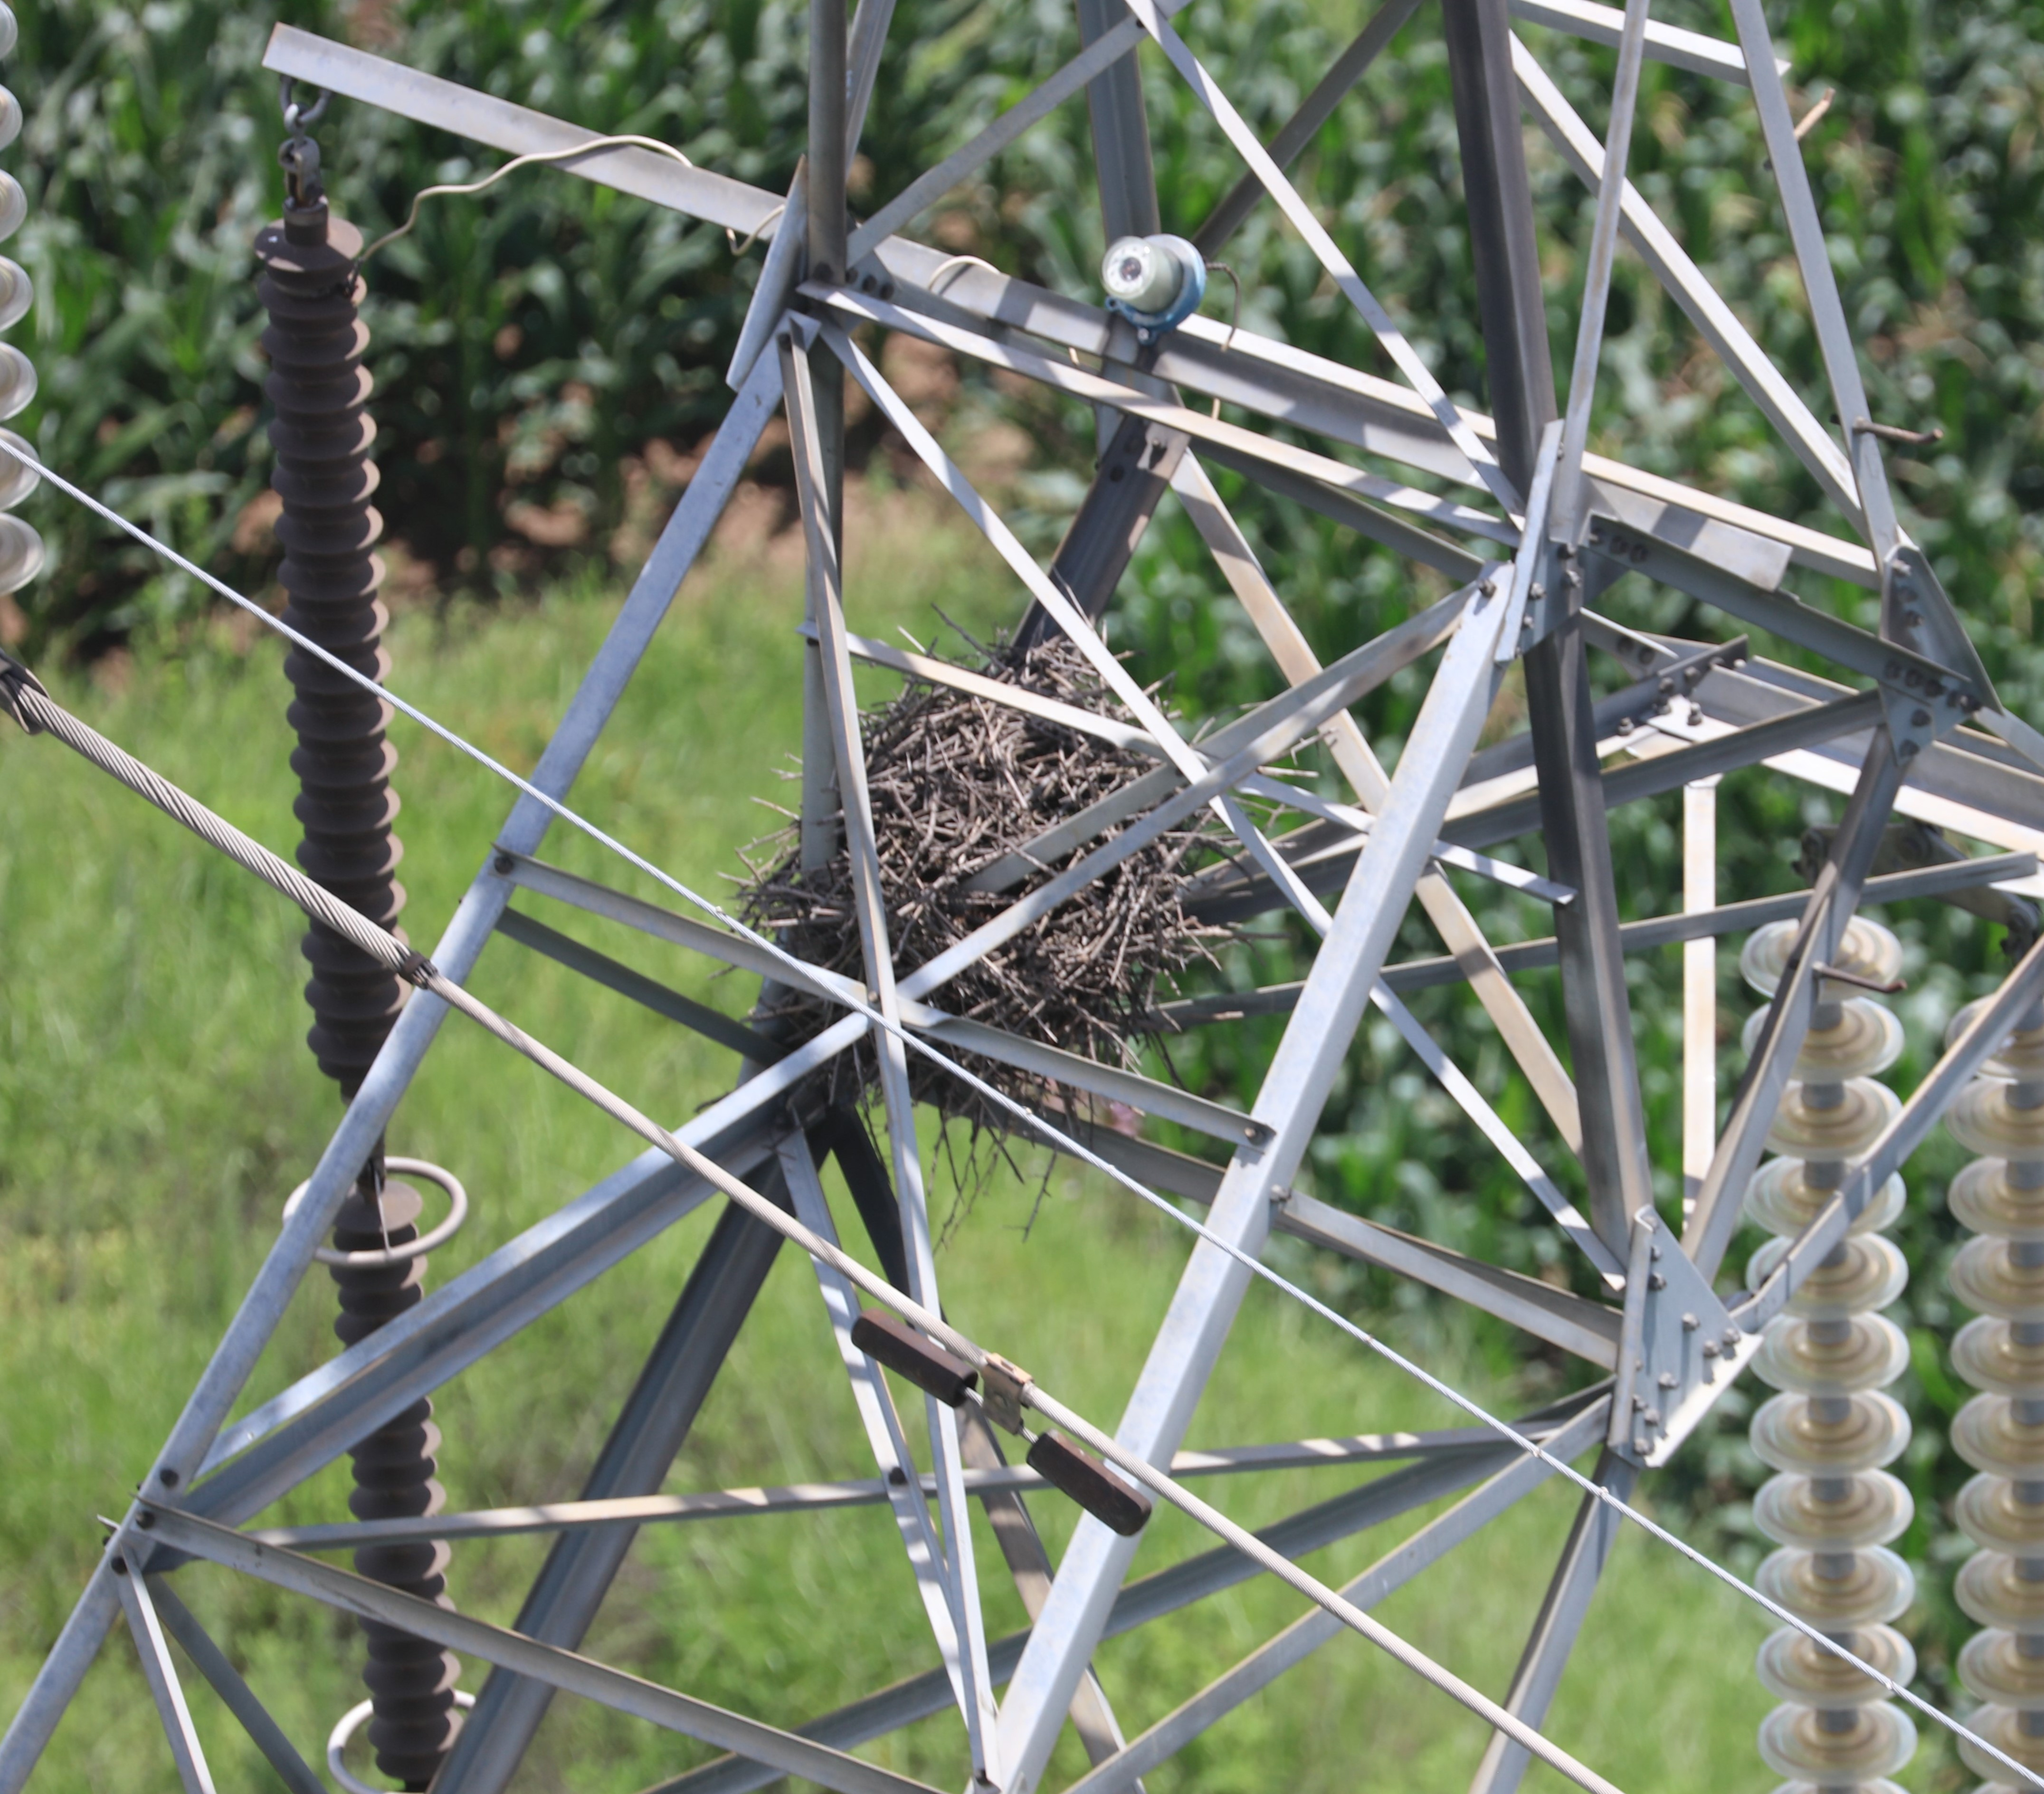niaowo: (733, 598, 1248, 1144)
